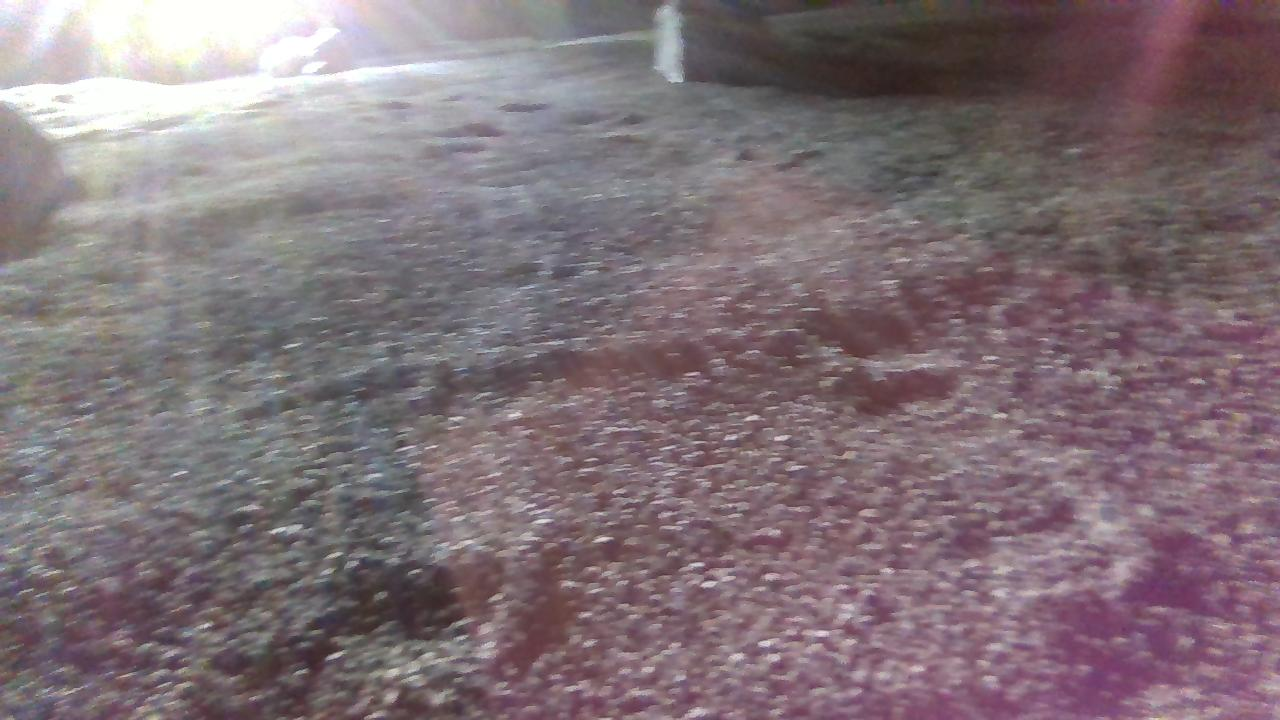rock: (259, 25, 353, 75), (654, 1, 684, 81)
